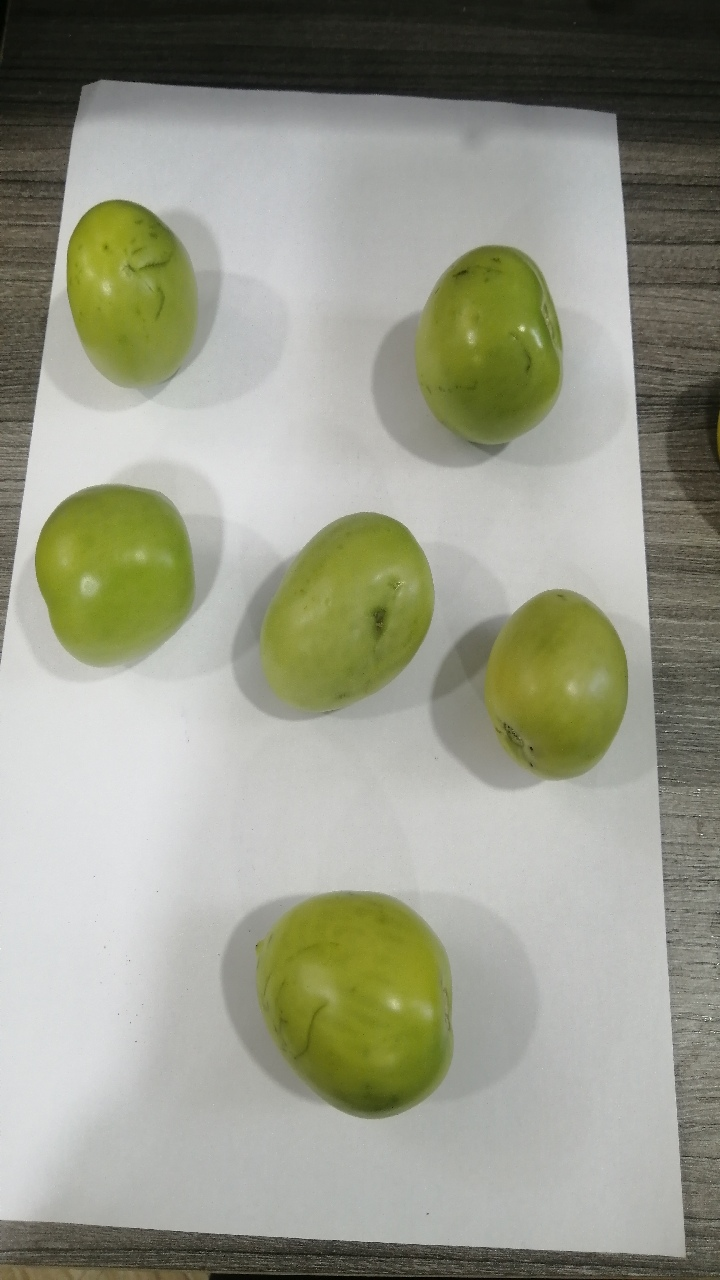tomateVerde: (243, 860, 471, 1117), (234, 486, 446, 725), (61, 159, 257, 412), (388, 231, 561, 468), (468, 560, 640, 779), (28, 466, 201, 679)
